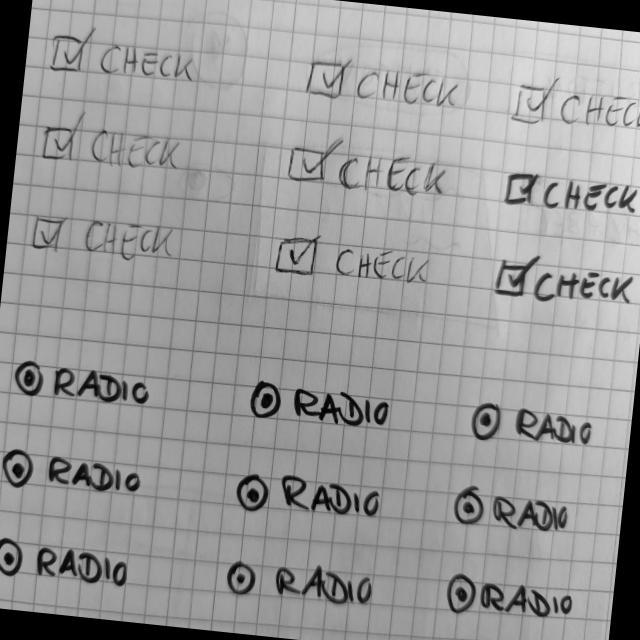checkbox: (284, 132, 454, 202), (38, 108, 190, 179), (46, 23, 204, 91), (273, 229, 438, 293), (303, 50, 465, 115), (506, 71, 640, 143), (29, 206, 182, 269), (492, 251, 639, 313), (499, 164, 640, 221)
radio: (224, 554, 377, 615), (230, 468, 385, 528), (246, 377, 394, 436), (9, 354, 159, 412), (1, 445, 150, 503), (444, 568, 580, 631), (1, 532, 132, 596), (467, 396, 602, 456), (450, 481, 575, 539)
